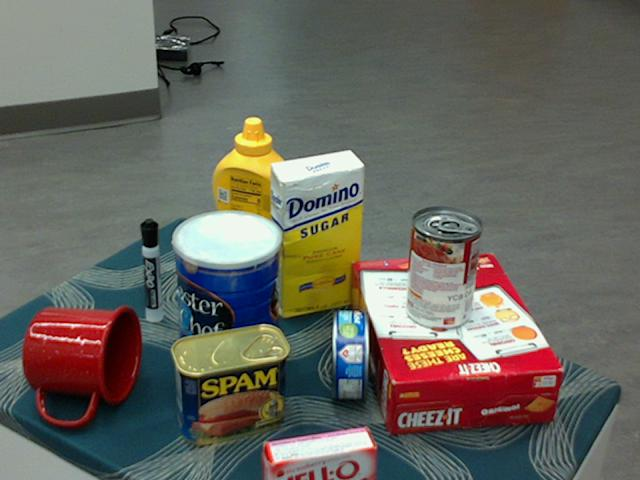cracker_box: (348, 255, 562, 430)
gelatin_box: (259, 426, 373, 479)
large_marker: (140, 218, 160, 322)
master_chef_can: (173, 211, 282, 385)
mug: (22, 305, 141, 425)
mustard_bottle: (212, 117, 294, 286)
potted_meat_can: (170, 324, 289, 444)
sugar_box: (270, 151, 364, 319)
tomato_soup_can: (404, 207, 482, 331)
tuna_fish_can: (333, 309, 368, 399)
